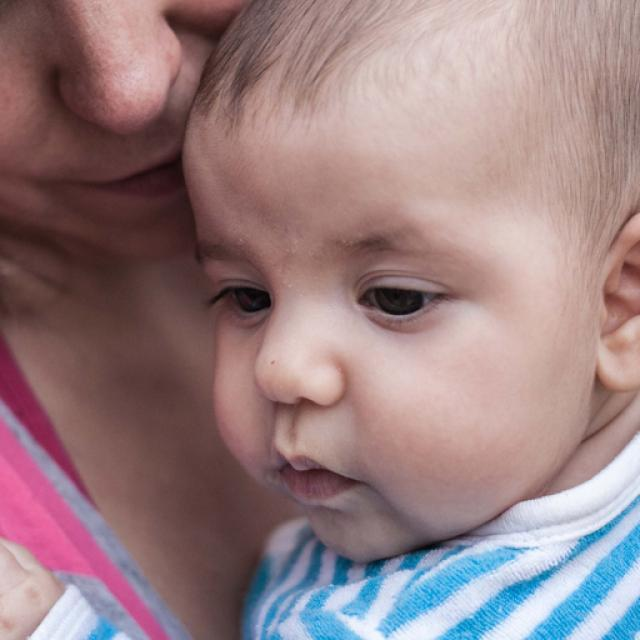neutral: (181, 40, 598, 563)
